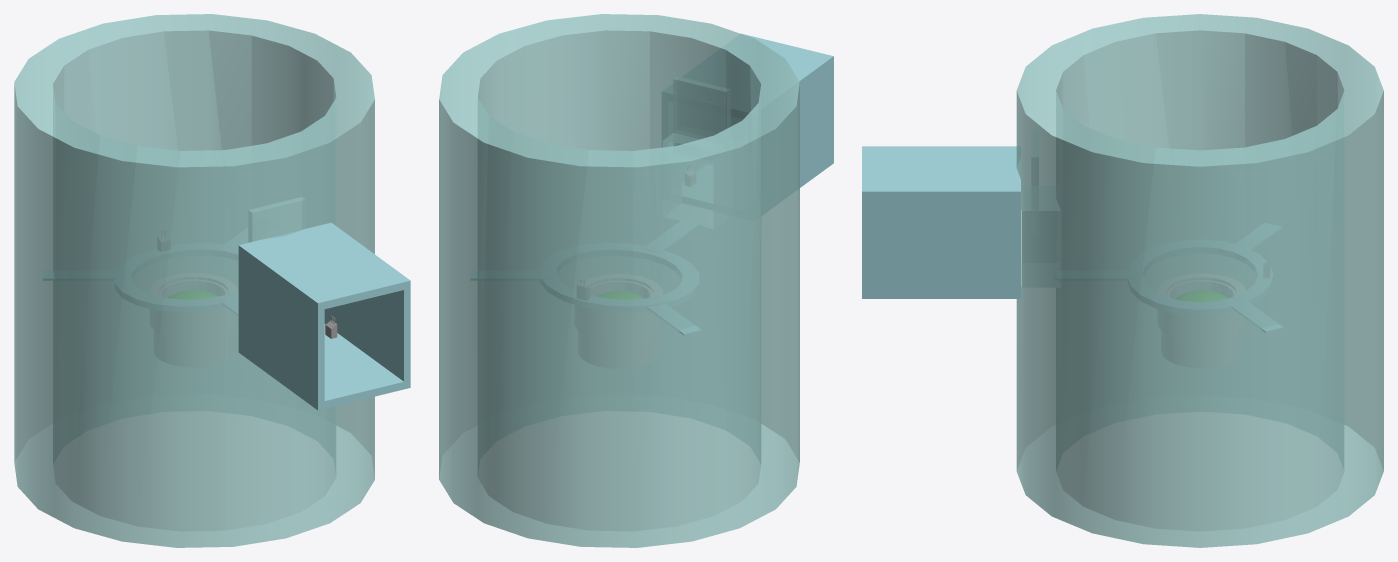
The model's file is NuclearReactorRm.fbx.
3 renders of one model, left to right at view 1: azimuth 30°, elevation 25°; view 2: azimuth 150°, elevation 25°; view 3: azimuth 270°, elevation 25°, orthographic.
Visible parts, largest first — view 1: RmWalls2, pCube14, Outer_NuclearReactor3, Outer_NuclearReactor2, Outer_NuclearReactor1, pCube16, pCube8; view 2: RmWalls2, pCube14, Outer_NuclearReactor3, pCube16, Outer_NuclearReactor2, Outer_NuclearReactor1, pCube9, pCube5, pCube8; view 3: RmWalls2, pCube14, Outer_NuclearReactor3, Outer_NuclearReactor1, Outer_NuclearReactor2, pCube16, pCube9, pCube5.
Part boxes in pixels (bbox=[...]): RmWalls2: bbox=[14, 14, 374, 547]; pCube14: bbox=[238, 222, 410, 410]; Outer_NuclearReactor3: bbox=[115, 243, 237, 311]; Outer_NuclearReactor2: bbox=[150, 273, 237, 340]; Outer_NuclearReactor1: bbox=[154, 280, 233, 366]; pCube16: bbox=[248, 197, 305, 242]; pCube8: bbox=[43, 270, 114, 280]; RmWalls2: bbox=[439, 14, 799, 547]; pCube14: bbox=[662, 33, 833, 214]; Outer_NuclearReactor3: bbox=[540, 243, 698, 311]; pCube16: bbox=[673, 76, 730, 146]; Outer_NuclearReactor2: bbox=[575, 274, 662, 341]; Outer_NuclearReactor1: bbox=[578, 281, 658, 367]; pCube9: bbox=[471, 270, 552, 280]; pCube5: bbox=[643, 219, 699, 252]; pCube8: bbox=[647, 304, 701, 335]; RmWalls2: bbox=[1016, 14, 1383, 547]; pCube14: bbox=[862, 146, 1020, 298]; Outer_NuclearReactor3: bbox=[1128, 240, 1272, 315]; Outer_NuclearReactor1: bbox=[1161, 280, 1241, 367]; Outer_NuclearReactor2: bbox=[1158, 274, 1245, 340]; pCube16: bbox=[1031, 131, 1038, 233]; pCube9: bbox=[1226, 297, 1282, 332]; pCube5: bbox=[1054, 271, 1134, 279].
Size of the model in its own units: 179 by 208 by 258.
